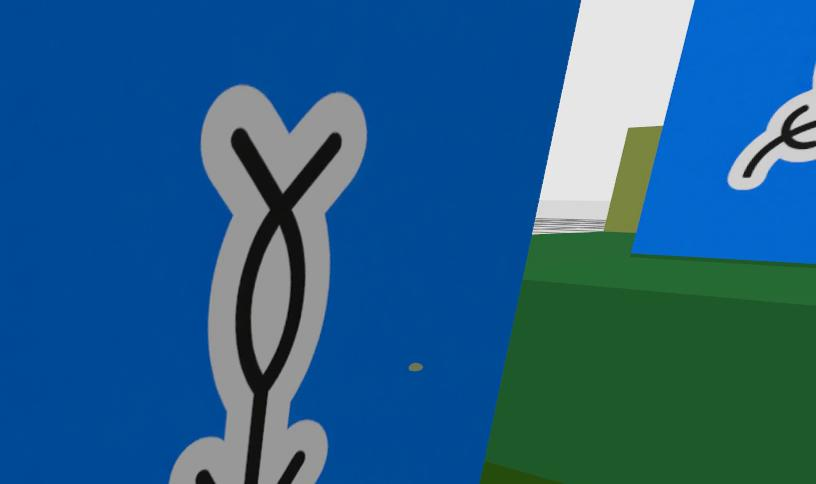KFS_REAL: (0, 0, 576, 484), (169, 85, 366, 484), (634, 0, 815, 264), (729, 74, 815, 189)
